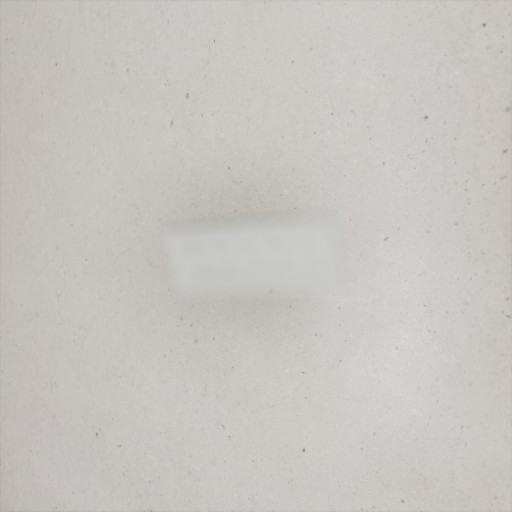lego: (163, 215, 351, 296)
